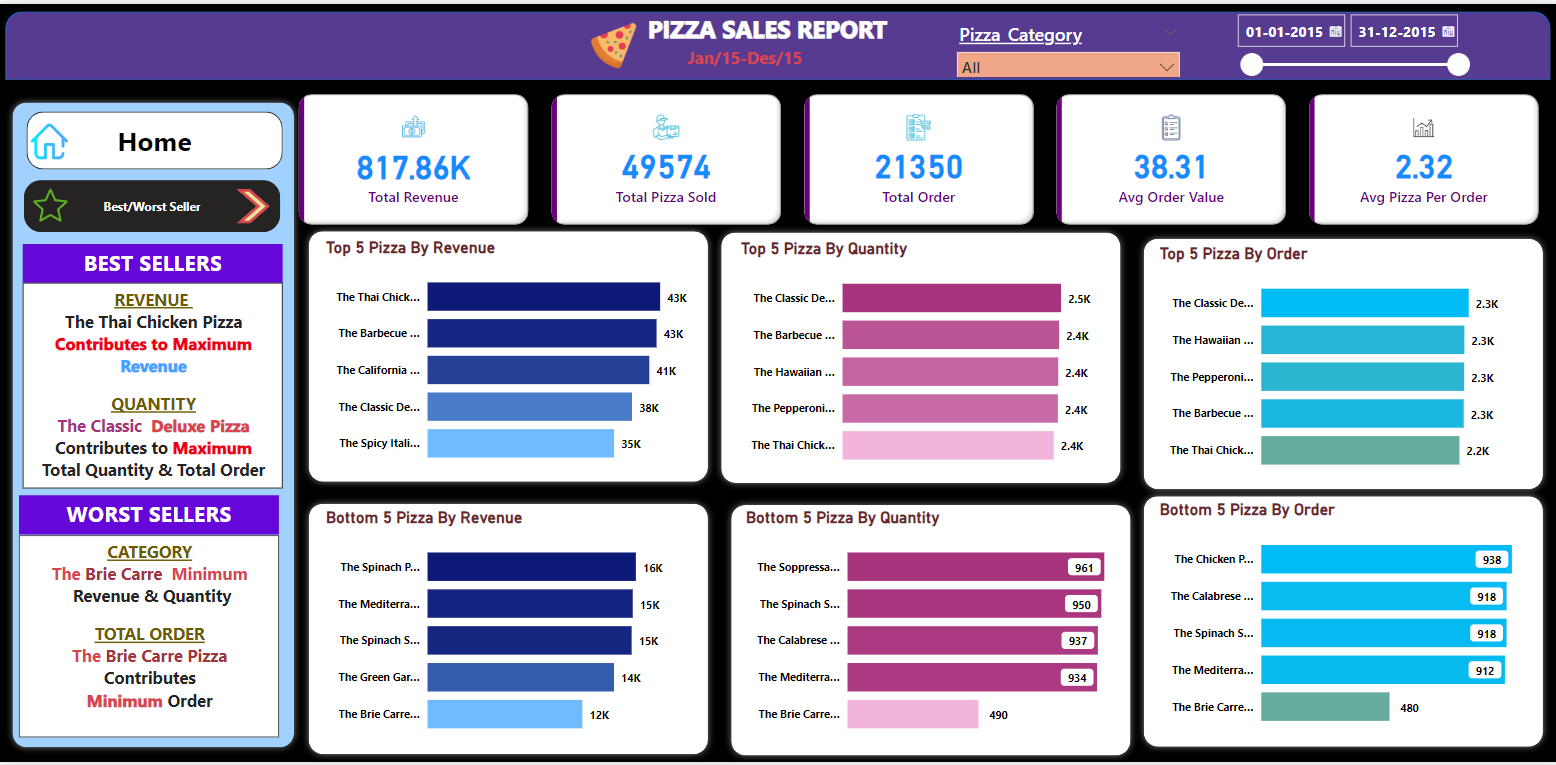

The dashboard page shown, as its layout file describes it:
{"tool":"powerbi","page":{"name":"Best/Worst Seller","canvas":[1750,850],"ordinal":1},"visuals":[{"type":"shape","box":[7,101.8,331.6,738.6],"z":0},{"type":"cardVisual","fields":{"Data":["pizza_sales_excel_file1.Total Revenue","pizza_sales_excel_file1.Total Pizza Sold","pizza_sales_excel_file1.Total Order","pizza_sales_excel_file1.Avg Order Value","pizza_sales_excel_file1.Avg Pizza Per Order"]},"box":[325,85,1413.3,178.3],"z":1000},{"type":"shape","box":[7.1,8.6,1731.4,77.1],"z":2000},{"type":"textbox","box":[701.4,4.3,318.6,57.1],"z":3000},{"type":"textbox","box":[766.7,41.7,165,40],"z":4000},{"type":"image","box":[652.9,15.7,71.4,62.9],"z":5000},{"type":"shape","box":[338.3,246.7,463.3,296.7],"z":6000},{"type":"textbox","box":[27.1,268.6,291.4,44.3],"z":7000},{"type":"textbox","box":[27.1,312.9,291.4,230],"z":8000},{"type":"textbox","box":[22.8,594.7,291.2,226.3],"z":9000},{"type":"textbox","box":[22.8,550.9,291.2,43.9],"z":10000},{"type":"slicer","fields":{"Values":["pizza_sales_excel_file1.pizza_category"]},"box":[1063.3,15,270,66.7],"z":11000},{"type":"slicer","fields":{"Values":["pizza_sales_excel_file1.order_date"]},"box":[1375.5,1.3,281.1,85.4],"z":12000},{"type":"shape","box":[801.7,248.3,463.3,296.7],"z":13000},{"type":"shape","box":[1275,255,463.3,296.7],"z":14000},{"type":"shape","box":[338.3,551.7,463.3,296.7],"z":15000},{"type":"shape","box":[811.7,553.3,463.3,296.7],"z":16000},{"type":"shape","box":[1275,543.3,463.3,296.7],"z":17000},{"type":"barChart","title":"Top 5 Pizza By Revenue","fields":{"Y":["pizza_sales_excel_file1.Total Revenue"],"Category":["pizza_sales_excel_file1.pizza_name"]},"box":[361.7,262,424,269],"z":18000},{"type":"barChart","title":"Bottom 5 Pizza By Revenue","fields":{"Y":["pizza_sales_excel_file1.Total Revenue"],"Category":["pizza_sales_excel_file1.pizza_name"]},"box":[361.7,565,423.3,270],"z":19000},{"type":"barChart","title":"Top 5 Pizza By Quantity","fields":{"Category":["pizza_sales_excel_file1.pizza_name"],"Y":["pizza_sales_excel_file1.Total Pizza Sold"]},"box":[826.7,263.3,423.3,270],"z":20000},{"type":"barChart","title":"Bottom 5 Pizza By Quantity","fields":{"Category":["pizza_sales_excel_file1.pizza_name"],"Y":["pizza_sales_excel_file1.Total Pizza Sold"]},"box":[831.7,565,423.3,270],"z":21000},{"type":"barChart","title":"Top 5 Pizza By Order","fields":{"Category":["pizza_sales_excel_file1.pizza_name"],"Y":["pizza_sales_excel_file1.Total Order"]},"box":[1295,268.3,423.3,270],"z":22000},{"type":"barChart","title":"Bottom 5 Pizza By Order","fields":{"Category":["pizza_sales_excel_file1.pizza_name"],"Y":["pizza_sales_excel_file1.Total Order"]},"box":[1295,556.7,423.3,270],"z":23000},{"type":"pageNavigator","box":[28.6,197.1,287.1,58.6],"z":24000},{"type":"pageNavigator","box":[31.4,120,287.1,65.7],"z":25000},{"type":"shape","box":[265.7,207.1,37.1,38.6],"z":26000},{"type":"image","box":[31.4,120,51.4,67.1],"z":27000},{"type":"image","box":[34.3,185.7,48.6,78.6],"z":28000}]}

Visuals, with their boxes in screenshot pixels (x1, y1, x2, y2), scaled from the page's 1750x850 canvas onto the 1556x765 screenshot:
shape: [x1=6, y1=92, x2=301, y2=756]
cardVisual - pizza_sales_excel_file1.Total Revenue x pizza_sales_excel_file1.Total Pizza Sold: [x1=289, y1=76, x2=1546, y2=237]
shape: [x1=6, y1=8, x2=1546, y2=77]
textbox: [x1=624, y1=4, x2=907, y2=55]
textbox: [x1=682, y1=38, x2=828, y2=74]
image: [x1=581, y1=14, x2=644, y2=71]
shape: [x1=301, y1=222, x2=713, y2=489]
textbox: [x1=24, y1=242, x2=283, y2=282]
textbox: [x1=24, y1=282, x2=283, y2=489]
textbox: [x1=20, y1=535, x2=279, y2=739]
textbox: [x1=20, y1=496, x2=279, y2=535]
slicer - pizza_sales_excel_file1.pizza_category: [x1=945, y1=14, x2=1185, y2=74]
slicer - pizza_sales_excel_file1.order_date: [x1=1223, y1=1, x2=1473, y2=78]
shape: [x1=713, y1=223, x2=1125, y2=490]
shape: [x1=1134, y1=230, x2=1546, y2=497]
shape: [x1=301, y1=497, x2=713, y2=764]
shape: [x1=722, y1=498, x2=1134, y2=764]
shape: [x1=1134, y1=489, x2=1546, y2=756]
"Top 5 Pizza By Revenue" barChart: [x1=322, y1=236, x2=699, y2=478]
"Bottom 5 Pizza By Revenue" barChart: [x1=322, y1=508, x2=698, y2=752]
"Top 5 Pizza By Quantity" barChart: [x1=735, y1=237, x2=1111, y2=480]
"Bottom 5 Pizza By Quantity" barChart: [x1=740, y1=508, x2=1116, y2=752]
"Top 5 Pizza By Order" barChart: [x1=1151, y1=241, x2=1528, y2=484]
"Bottom 5 Pizza By Order" barChart: [x1=1151, y1=501, x2=1528, y2=744]
pageNavigator: [x1=25, y1=177, x2=281, y2=230]
pageNavigator: [x1=28, y1=108, x2=283, y2=167]
shape: [x1=236, y1=186, x2=269, y2=221]
image: [x1=28, y1=108, x2=74, y2=168]
image: [x1=30, y1=167, x2=74, y2=238]
